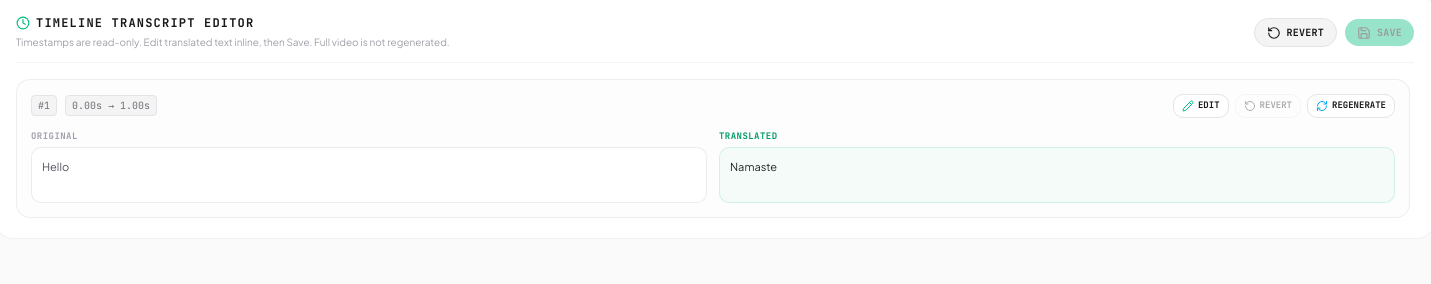
it: TranscriptEditor › edits translated text and saves
The width and height of the screenshot is (1431, 284).
Click the button "Edit".
click(1201, 106)  # box [1173,94,1229,118]
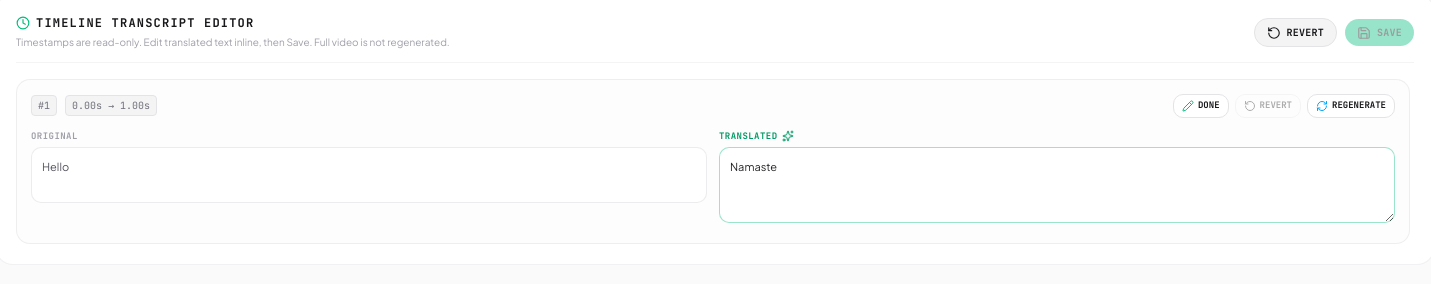
Replace the text in the text box showing "Namaste" with "Namaskar" at (1057, 185), box [719,147,1395,223]
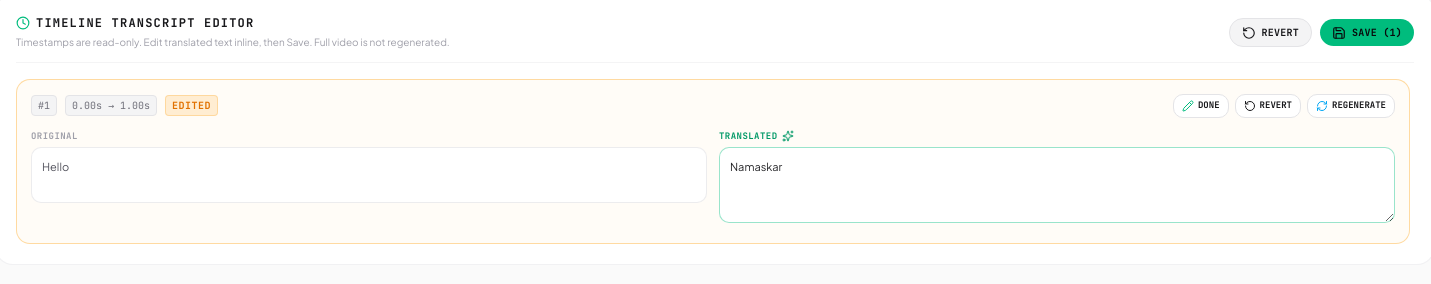
Click the button "Save (1)".
click(1367, 32)  # box [1320,19,1414,46]
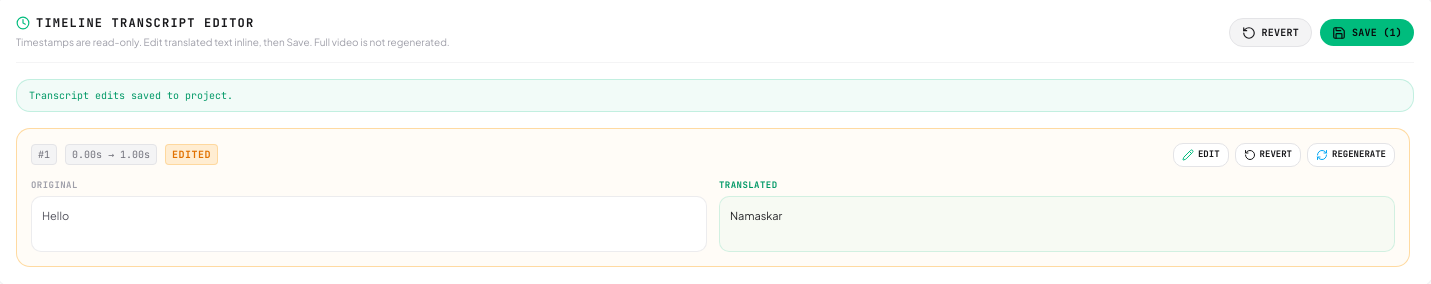
Expected: the text "Namaskar" is shown, [719,196,1395,252]
